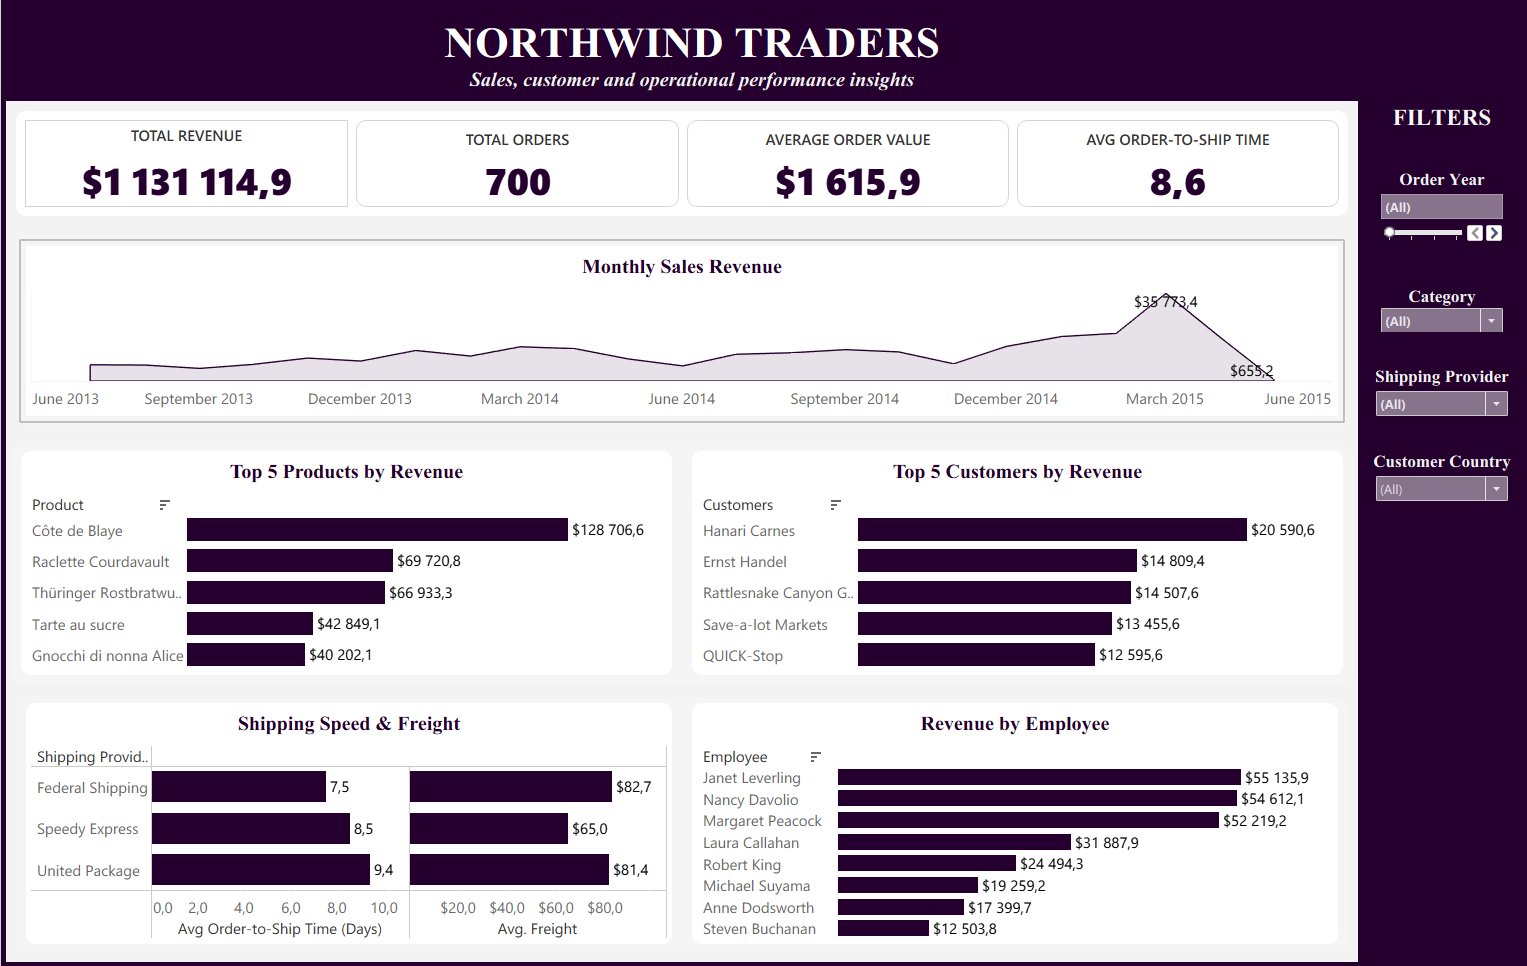

The dashboard page shown, as its layout file describes it:
{"tool":"tableau","page":{"name":"Northwind Traders","canvas":[1000,1000],"units":"permille","ordinal":0},"visuals":[{"type":"text","box":[3.3,5.2,883.7,98.8]},{"type":"text","box":[886.9,104,109.8,35.2]},{"type":"worksheet","title":"KPI - Total Revenue","mark":"Automatic","box":[13.1,120,216.3,98.2]},{"type":"worksheet","title":"KPI - Total Orders","mark":"Automatic","box":[229.4,120,216.3,98.2]},{"type":"worksheet","title":"KPI - AVG Order Value","mark":"Automatic","box":[445.8,120,215.7,98.2]},{"type":"worksheet","title":"AVG Order to Ship Time","mark":"Automatic","box":[661.4,120,215.7,98.2]},{"type":"filter","title":"Sales Trend","param":"[federated.0jczpda0t1gz0j1dgy0hw1uy0pjp].[yr:orderDate:ok]","box":[886.9,154.7,109.8,121]},{"type":"worksheet","title":"Sales Trend","mark":"Area","rows":["Calculation_1300500941209600"],"cols":["orderDate"],"box":[13.1,248.8,864,186.1]},{"type":"filter","title":"Product Perfomance","param":"[federated.0jczpda0t1gz0j1dgy0hw1uy0pjp].[none:categoryName:nk]","box":[886.9,275.7,109.8,87.9]},{"type":"filter","title":"Shipping Provider Perfomance","param":"[federated.0jczpda0t1gz0j1dgy0hw1uy0pjp].[none:companyName (SHIPPERS):nk]","box":[886.9,363.6,109.8,87.9]},{"type":"filter","title":"Customer Perfomance","param":"[federated.0jczpda0t1gz0j1dgy0hw1uy0pjp].[none:country:nk]","box":[886.9,451.5,109.8,136.5]},{"type":"worksheet","title":"Product Perfomance","mark":"Automatic","rows":["productName"],"cols":["Calculation_1300500941209600"],"box":[9.8,466.4,435.3,234.8]},{"type":"worksheet","title":"Customer Perfomance","mark":"Automatic","rows":["companyName"],"cols":["Calculation_1300500941209600"],"box":[445.1,466.4,435.3,234.8]},{"type":"worksheet","title":"Shipping Provider Perfomance","mark":"Automatic","rows":["companyName (SHIPPERS)"],"cols":["Calculation_1300500945281026","freight"],"box":[13.1,727,432,252.3]},{"type":"worksheet","title":"Employee Perfomance","mark":"Automatic","rows":["employeeName"],"cols":["Calculation_1300500941209600"],"box":[445.1,727,432,252.3]}]}

Visuals, with their boxes on the dashboard's canvas, which has no fixed pixel size, in thousandths of its width and height (x1, y1, x2, y2). These are canvas units, not pixel positions in the 1527x966 screenshot, which may show the page scaled, cropped or inside an application window:
text: (left=3, top=5, right=887, bottom=104)
text: (left=887, top=104, right=997, bottom=139)
"KPI - Total Revenue" worksheet: (left=13, top=120, right=229, bottom=218)
"KPI - Total Orders" worksheet: (left=229, top=120, right=446, bottom=218)
"KPI - AVG Order Value" worksheet: (left=446, top=120, right=662, bottom=218)
"AVG Order to Ship Time" worksheet: (left=661, top=120, right=877, bottom=218)
"Sales Trend" filter: (left=887, top=155, right=997, bottom=276)
"Sales Trend" worksheet (Area marks): (left=13, top=249, right=877, bottom=435)
"Product Perfomance" filter: (left=887, top=276, right=997, bottom=364)
"Shipping Provider Perfomance" filter: (left=887, top=364, right=997, bottom=452)
"Customer Perfomance" filter: (left=887, top=452, right=997, bottom=588)
"Product Perfomance" worksheet: (left=10, top=466, right=445, bottom=701)
"Customer Perfomance" worksheet: (left=445, top=466, right=880, bottom=701)
"Shipping Provider Perfomance" worksheet: (left=13, top=727, right=445, bottom=979)
"Employee Perfomance" worksheet: (left=445, top=727, right=877, bottom=979)
